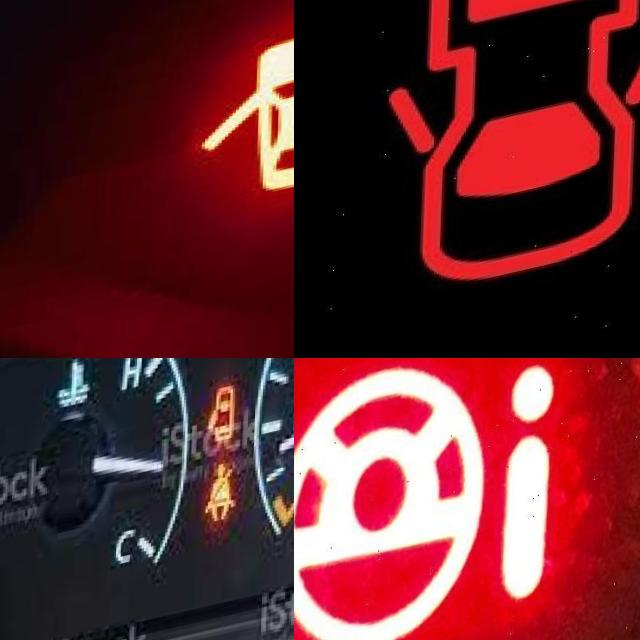Electronic Power Steering Warning: (294, 358, 552, 640)
Seat Belt: (201, 474, 251, 542)
